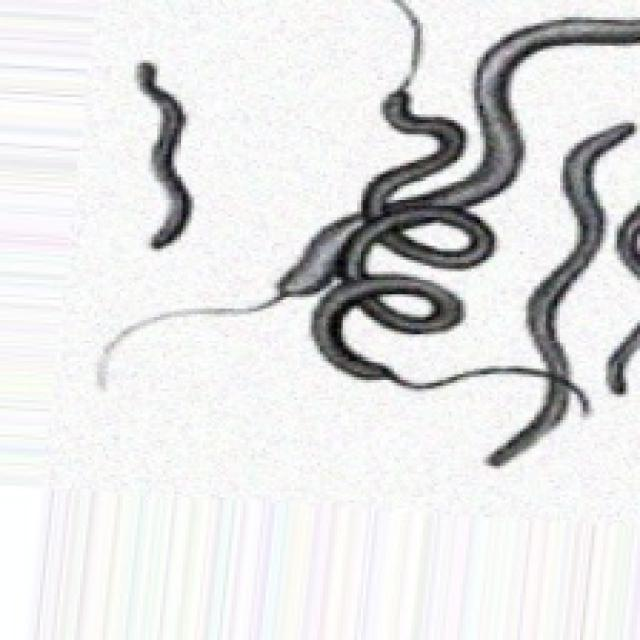Spiral_bacteria: (92, 0, 637, 469), (132, 57, 192, 249)
